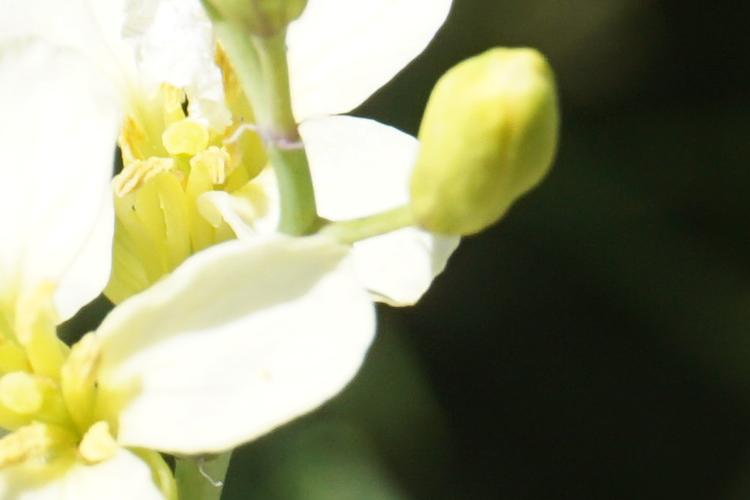bud: (415, 58, 553, 239)
white: (6, 4, 437, 302), (21, 282, 384, 492)
